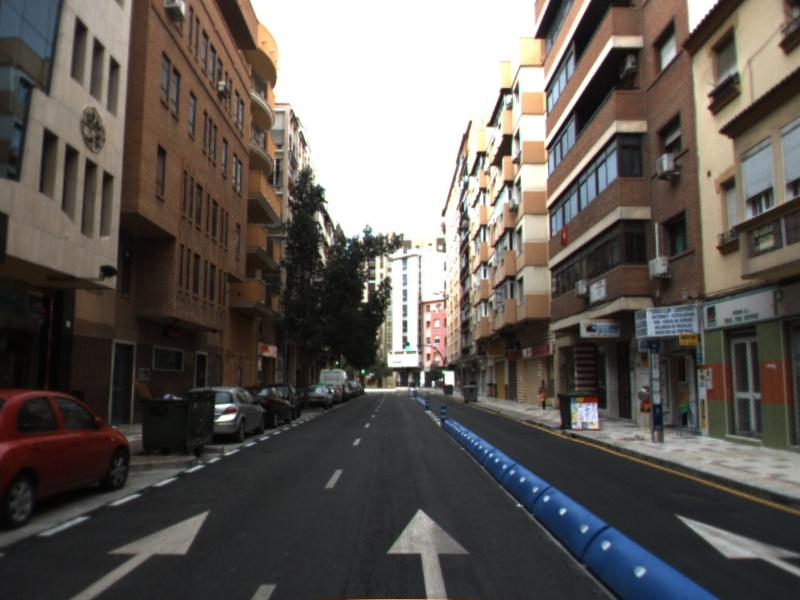STRAIGHT: (66, 508, 212, 600), (672, 512, 800, 578), (385, 507, 473, 600)
